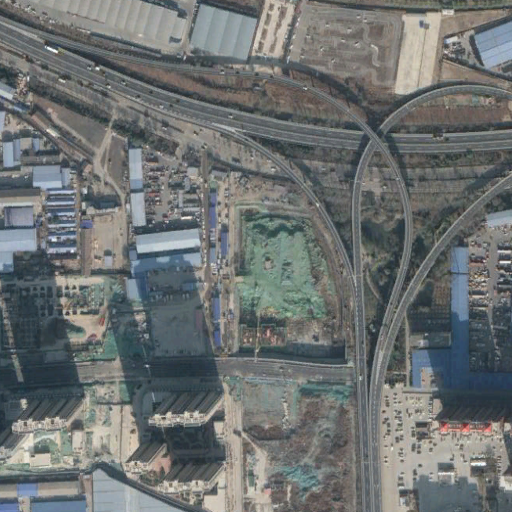cw: (225, 168, 349, 358), (223, 378, 365, 512), (9, 379, 137, 471), (38, 277, 157, 362)
